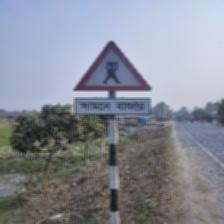Market-in-front: (72, 41, 153, 115)
